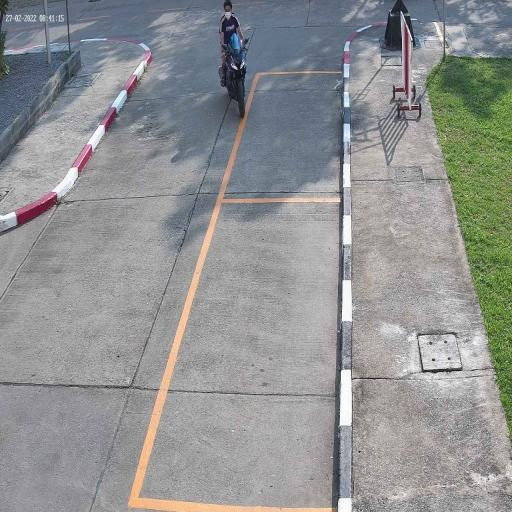motorcycle: (218, 36, 248, 120)
